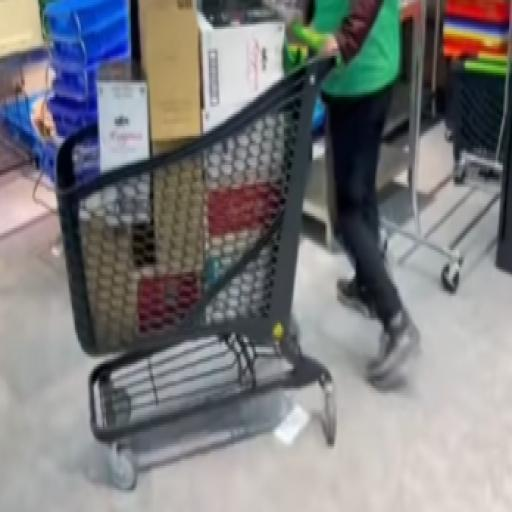shopping_cart: (52, 20, 343, 490)
